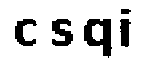c: (9, 15, 38, 49)
i: (119, 5, 136, 50)
q: (80, 12, 115, 60)
s: (46, 18, 75, 49)
